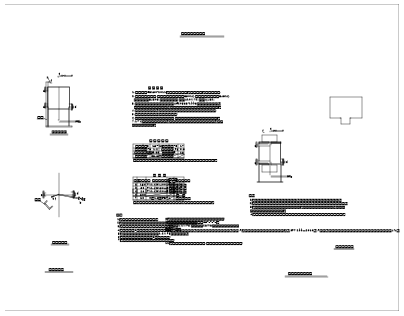staircase: (333, 88, 366, 121), (334, 89, 365, 120), (338, 146, 361, 169)
wall: (144, 118, 166, 122)
window: (69, 211, 70, 212), (69, 209, 70, 209), (286, 155, 286, 155), (286, 152, 286, 153)
